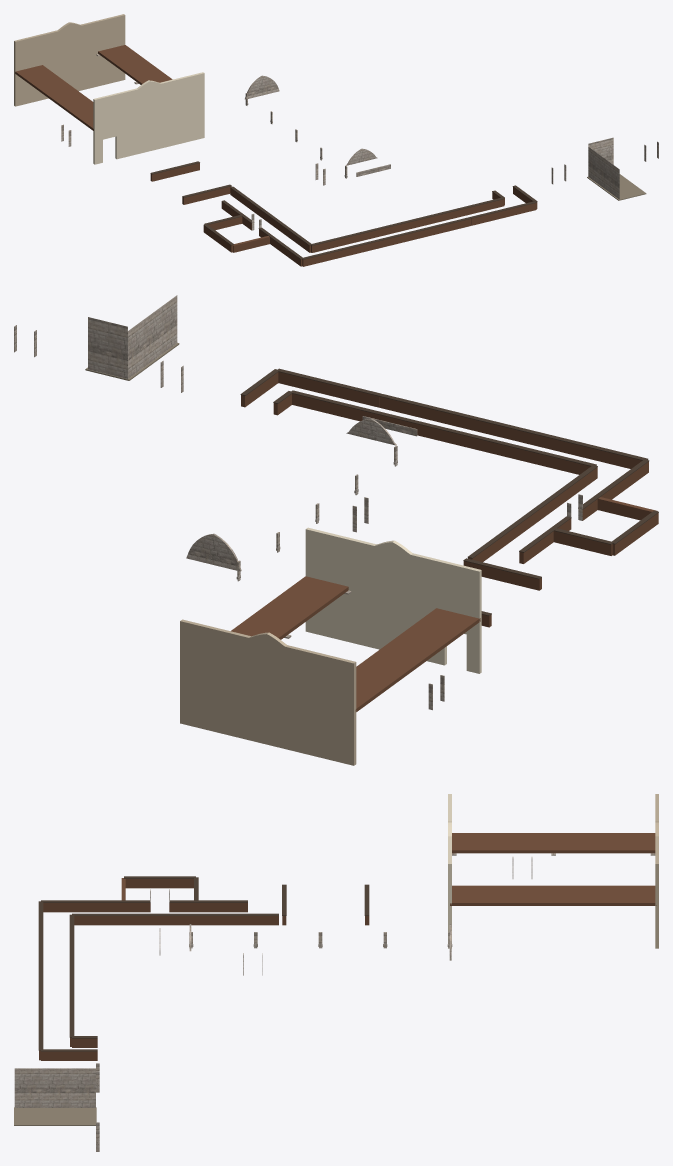
The model's file is first_court_joints.glb.
3 views of the same model, one above another, from view 1: azimuth 30°, elevation 25°; view 2: azimuth 150°, elevation 25°; view 3: azimuth 270°, elevation 25° (orthographic). The views are drawn at different scales.
Parts seen in each view (by area): view 1: GatehouseJoints dado, GatehouseJoints north gable, GatehouseJoints arrival gable, GatehouseJoints cap rail, EastRangeJoints stone joints, CloisterJoints stone joints, EastRangeJoints dado, EastRangeJoints recess paving, EastRangeJoints cap rail; view 2: GatehouseJoints dado, GatehouseJoints arrival gable, GatehouseJoints north gable, EastRangeJoints stone joints, GatehouseJoints cap rail, CloisterJoints stone joints, EastRangeJoints dado, EastRangeJoints cap rail; view 3: GatehouseJoints dado, EastRangeJoints stone joints, GatehouseJoints cap rail, EastRangeJoints recess paving, EastRangeJoints dado, EastRangeJoints cap rail, GatehouseJoints arrival gable, GatehouseJoints north gable, CloisterJoints stone joints.
Part boxes in pixels (box(x1,y1,x2,y2)): GatehouseJoints dado: box(15, 45, 471, 266); GatehouseJoints north gable: box(93, 72, 204, 164); GatehouseJoints arrival gable: box(14, 14, 125, 106); GatehouseJoints cap rail: box(150, 161, 471, 259); EastRangeJoints stone joints: box(551, 137, 658, 199); CloisterJoints stone joints: box(245, 75, 390, 185); EastRangeJoints dado: box(459, 187, 537, 225); EastRangeJoints recess paving: box(587, 174, 646, 200); EastRangeJoints cap rail: box(458, 185, 537, 218); GatehouseJoints dado: box(231, 396, 658, 711); GatehouseJoints arrival gable: box(180, 619, 356, 765); GatehouseJoints north gable: box(305, 527, 481, 673); EastRangeJoints stone joints: box(14, 295, 183, 392); GatehouseJoints cap rail: box(360, 394, 658, 615); CloisterJoints stone joints: box(186, 416, 417, 581); EastRangeJoints dado: box(241, 372, 379, 421); EastRangeJoints cap rail: box(240, 368, 381, 410); GatehouseJoints dado: box(43, 833, 656, 925); EastRangeJoints stone joints: box(14, 1063, 99, 1151); GatehouseJoints cap rail: box(38, 876, 369, 1008); EastRangeJoints recess paving: box(14, 1107, 96, 1125); EastRangeJoints dado: box(39, 1037, 97, 1060); EastRangeJoints cap rail: box(38, 1008, 97, 1051); GatehouseJoints arrival gable: box(655, 794, 658, 948); GatehouseJoints north gable: box(448, 794, 451, 948); CloisterJoints stone joints: box(159, 924, 452, 975).
Size of the model in its own units: 62.64 by 9.95 by 62.28.
6 materials, 1 textured.
